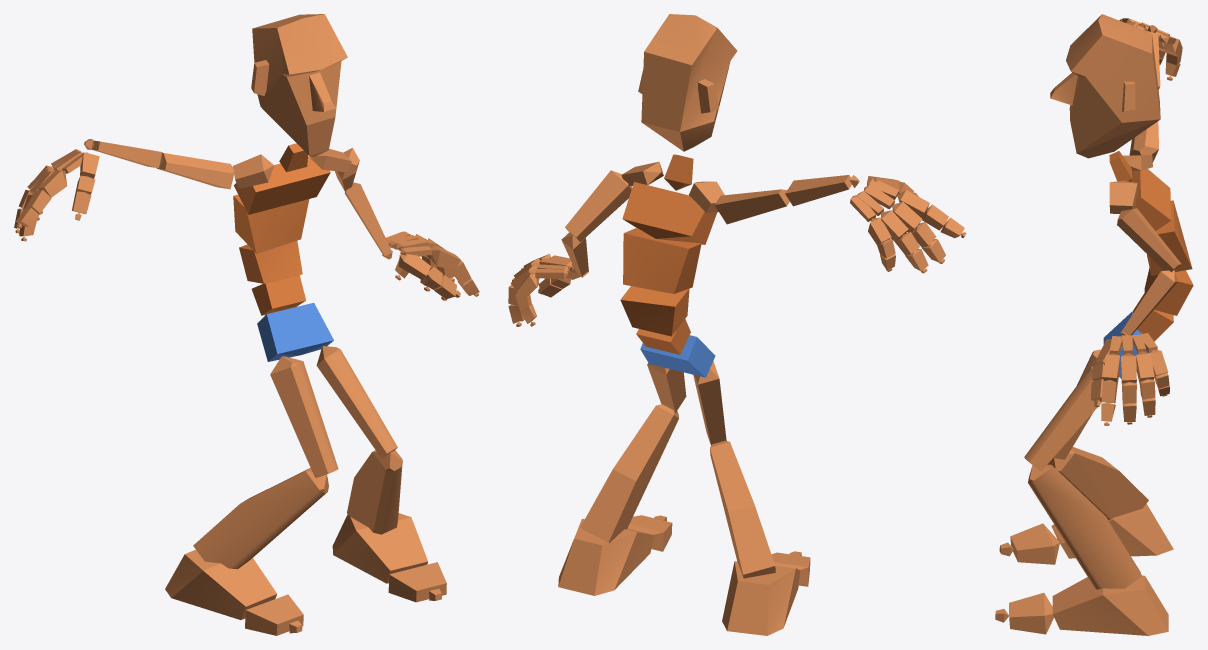
3 views of the same model, side by side, from view 1: azimuth 30°, elevation 25°; view 2: azimuth 150°, elevation 25°; view 3: azimuth 270°, elevation 25° (orthographic).
Parts seen in each view (by area): view 1: BOPED_Head, BOPED_R_leg, BOPED_R_foot, BOPED_R_foot01, BOPED_R_legup, BOPED_L_leg, Bone01, BOPED_L_legup, Bone04, Bone05, Bone03, BOPED_R_arm_upper (+7 smaller); view 2: BOPED_Head, BOPED_L_leg, BOPED_R_foot01, BOPED_R_leg, BOPED_R_foot, Bone04, Bone05, Bone03, BOPED_L_arm_upper, Bone01, BOPED_R_arm_upper, BOPED_R_legup (+9 smaller); view 3: BOPED_Head, BOPED_L_leg, BOPED_R_foot01, BOPED_R_leg, BOPED_L_legup, BOPED_R_foot, Bone05, BOPED_L_arm_upper, BOPED_R_foot_toe01, BOPED_R_foot_toe04, BOPED_L_arm_fore, Bone04 (+14 smaller).
Boxes of the visible parts, <box> form: BOPED_Head: <box>251,14,347,156</box>; BOPED_R_leg: <box>193,468,328,569</box>; BOPED_R_foot: <box>165,549,276,619</box>; BOPED_R_foot01: <box>332,513,427,583</box>; BOPED_R_legup: <box>270,356,338,477</box>; BOPED_L_leg: <box>347,450,402,534</box>; Bone01: <box>257,302,333,361</box>; BOPED_L_legup: <box>316,346,397,457</box>; Bone04: <box>233,194,309,253</box>; Bone05: <box>234,156,330,214</box>; Bone03: <box>239,241,302,283</box>; BOPED_R_arm_upper: <box>156,152,234,189</box>; BOPED_Head: <box>638,14,737,151</box>; BOPED_L_leg: <box>580,404,678,542</box>; BOPED_R_foot01: <box>558,518,653,595</box>; BOPED_R_leg: <box>710,440,775,578</box>; BOPED_R_foot: <box>722,561,800,635</box>; Bone04: <box>623,228,701,293</box>; Bone05: <box>622,182,717,244</box>; Bone03: <box>620,286,689,336</box>; BOPED_L_arm_upper: <box>565,170,631,242</box>; Bone01: <box>640,335,715,377</box>; BOPED_R_arm_upper: <box>714,189,789,224</box>; BOPED_R_legup: <box>693,361,726,445</box>; BOPED_Head: <box>1050,14,1160,158</box>; BOPED_L_leg: <box>1028,464,1141,589</box>; BOPED_R_foot01: <box>1052,575,1168,635</box>; BOPED_R_leg: <box>1047,447,1148,519</box>; BOPED_L_legup: <box>1024,366,1101,471</box>; BOPED_R_foot: <box>1051,504,1173,558</box>; Bone05: <box>1131,169,1171,231</box>; BOPED_L_arm_upper: <box>1117,208,1181,272</box>; BOPED_R_foot_toe01: <box>1010,523,1059,564</box>; BOPED_R_foot_toe04: <box>1009,593,1053,634</box>; BOPED_L_arm_fore: <box>1121,270,1177,335</box>; Bone04: <box>1147,200,1192,276</box>.
Bounding box in the file's own units: 149 × 177 × 56.5.
